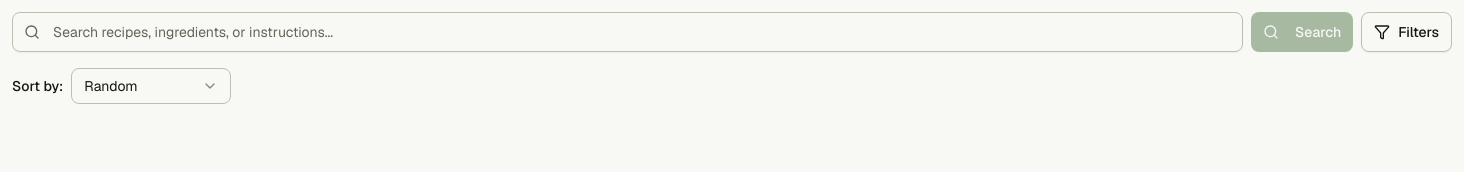
Test: RecipeSearch - Disabled State Logic (Task 10.2) › Edge cases › should re-disable button when query is cleared
// Add query
Type "pasta" into the field labelled "Search recipes, ingredients, or instructions...".
click(628, 32); type("pasta")  # box [12,12,1243,52]
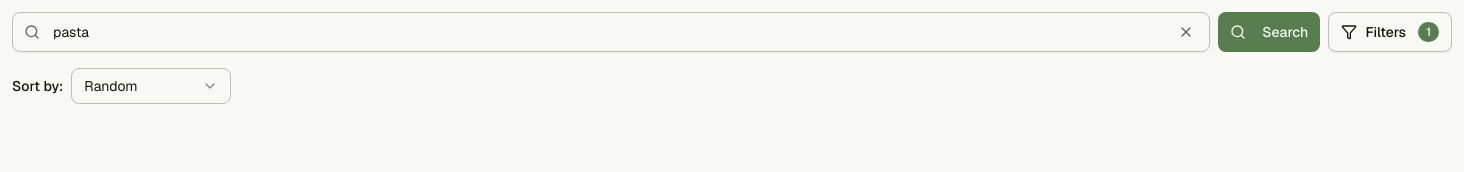
Result: the button with aria-label "search recipes" is enabled at [1218,12,1320,52]
// Clear query
Clear the field named "Search recipes" at (611, 32), box [12,12,1210,52]
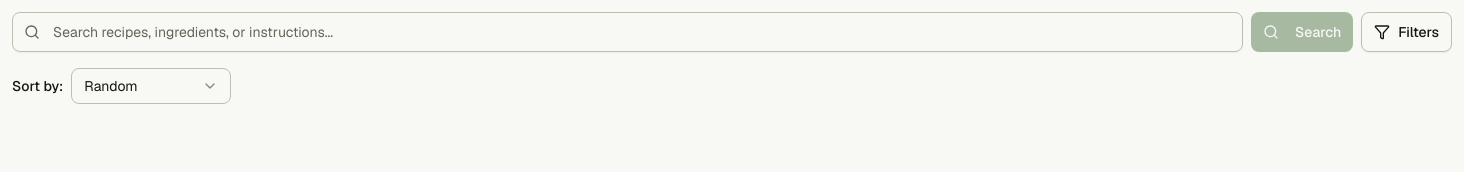
Result: the button with aria-label "search recipes" is disabled at [1251,12,1353,52]
